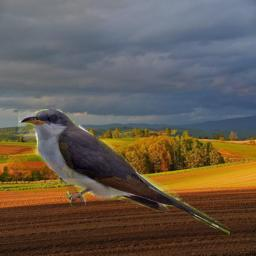Cuckoo: (18, 109, 230, 237)
